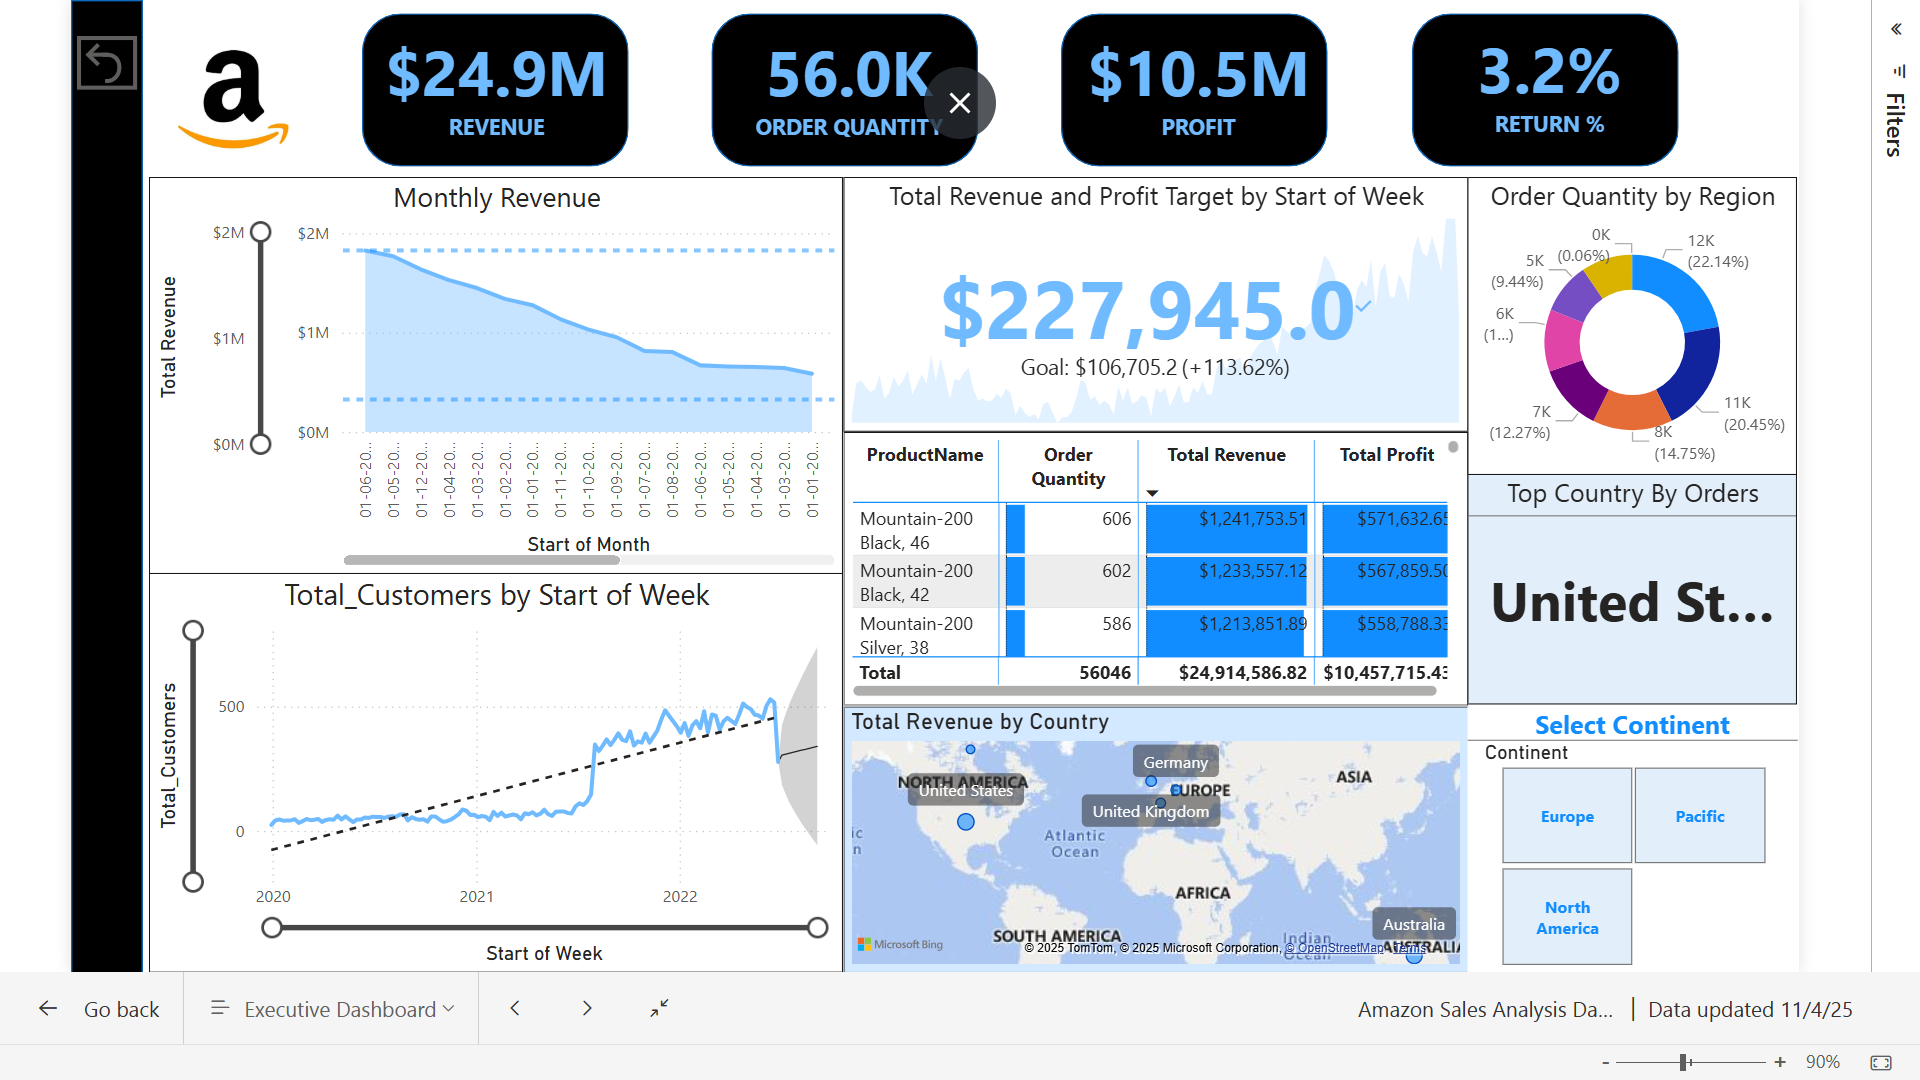

Layout of this report page (visuals, bound fields, positions):
{"tool":"powerbi","page":{"name":"Executive Dashboard","canvas":[1280,720],"ordinal":1},"visuals":[{"type":"shape","title":"KPI Card","box":[215.6,9.6,197.5,113.3],"z":0,"group":"g1"},{"type":"image","title":"Amazon Logo","box":[53.4,9.7,132.8,126.3],"z":0},{"type":"card","fields":{"Values":["Table_Measures.Total Revenue"]},"box":[206.1,10.4,218.7,101.3],"z":0,"group":"g2"},{"type":"shape","title":"Left Nav Bar","box":[0,0,53.3,721.2],"z":1000},{"type":"shape","title":"KPI Card","box":[474.7,9.6,197.5,113.3],"z":1000,"group":"g1"},{"type":"card","fields":{"Values":["Table_Measures.Total Profit"]},"box":[726.6,10.4,218.7,101.3],"z":1000,"group":"g2"},{"type":"card","fields":{"Values":["Table_Measures.Return Rate"]},"box":[985.8,8.4,218.7,101.3],"z":2000,"group":"g2"},{"type":"group","id":"g1","title":"KPI Cards","box":[215.6,9.6,974.8,113.3],"z":2000},{"type":"shape","title":"KPI Card","box":[733.8,9.6,197.5,113.3],"z":2000,"group":"g1"},{"type":"group","id":"g2","title":"KPI Cards Values","box":[206.1,8.4,998.5,103.3],"z":3000},{"type":"shape","title":"KPI Card","box":[992.8,9.6,197.5,113.3],"z":3000,"group":"g1"},{"type":"card","fields":{"Values":["Table_Measures.Order Quantity"]},"box":[467.4,10.4,218.7,101.3],"z":3000,"group":"g2"},{"type":"lineChart","title":"Monthly Revenue","fields":{"Category":["Calendar Lookup.Start of Month"],"Y":["Table_Measures.Total Revenue"]},"box":[57.6,131,514.3,293.9],"z":4000},{"type":"lineChart","fields":{"Category":["Calendar Lookup.Start of Week"],"Y":["Table_Measures.Total_Customers"]},"box":[57.6,424.9,514.3,295.8],"z":5000},{"type":"kpi","fields":{"Indicator":["Table_Measures.Total Revenue"],"TrendLine":["Calendar Lookup.Start of Week"],"Goal":["Table_Measures.Profit Target"]},"box":[571.8,131,462.6,188.6],"z":6000},{"type":"donutChart","fields":{"Y":["Table_Measures.Order Quantity"],"Category":["Territory Lookup.Region"]},"box":[1034.5,131,244.2,220.4],"z":7000},{"type":"tableEx","fields":{"Values":["Product Lookup.ProductName","Table_Measures.Order Quantity","Table_Measures.Total Revenue","Table_Measures.Total Profit"]},"box":[571.8,319.7,462.6,202.5],"z":8000},{"type":"card","title":"Top Country By Orders","fields":{"Values":["Min(Territory Lookup.Country)"]},"box":[1034.5,351.4,244.2,170.8],"z":9000},{"type":"map","fields":{"Category":["Territory Lookup.Country"],"Size":["Table_Measures.Total Revenue"]},"box":[572,523,463,197],"z":10000},{"type":"slicer","title":"Select Continent","fields":{"Values":["Territory Lookup.Continent"]},"box":[1034.7,523,244.5,197.5],"z":11000},{"type":"actionButton","box":[4.8,27,44.5,39.8],"z":12000}]}

Visuals, with their boxes on the page's 1280x720 design canvas (x1, y1, x2, y2). These are canvas units, not pixel positions in the 1920x1080 screenshot, which may show the page scaled, cropped or inside an application window:
"KPI Card" shape: (x1=216, y1=10, x2=413, y2=123)
"Amazon Logo" image: (x1=53, y1=10, x2=186, y2=136)
card - Table_Measures.Total Revenue: (x1=206, y1=10, x2=425, y2=112)
"Left Nav Bar" shape: (x1=0, y1=0, x2=53, y2=721)
"KPI Card" shape: (x1=475, y1=10, x2=672, y2=123)
card - Table_Measures.Total Profit: (x1=727, y1=10, x2=945, y2=112)
card - Table_Measures.Return Rate: (x1=986, y1=8, x2=1204, y2=110)
"KPI Cards" group: (x1=216, y1=10, x2=1190, y2=123)
"KPI Card" shape: (x1=734, y1=10, x2=931, y2=123)
"KPI Cards Values" group: (x1=206, y1=8, x2=1205, y2=112)
"KPI Card" shape: (x1=993, y1=10, x2=1190, y2=123)
card - Table_Measures.Order Quantity: (x1=467, y1=10, x2=686, y2=112)
"Monthly Revenue" lineChart: (x1=58, y1=131, x2=572, y2=425)
lineChart - Calendar Lookup.Start of Week x Table_Measures.Total_Customers: (x1=58, y1=425, x2=572, y2=721)
kpi - Table_Measures.Total Revenue x Calendar Lookup.Start of Week: (x1=572, y1=131, x2=1034, y2=320)
donutChart - Table_Measures.Order Quantity x Territory Lookup.Region: (x1=1034, y1=131, x2=1279, y2=351)
tableEx - Product Lookup.ProductName x Table_Measures.Order Quantity: (x1=572, y1=320, x2=1034, y2=522)
"Top Country By Orders" card: (x1=1034, y1=351, x2=1279, y2=522)
map - Territory Lookup.Country x Table_Measures.Total Revenue: (x1=572, y1=523, x2=1035, y2=720)
"Select Continent" slicer: (x1=1035, y1=523, x2=1279, y2=720)
actionButton: (x1=5, y1=27, x2=49, y2=67)
